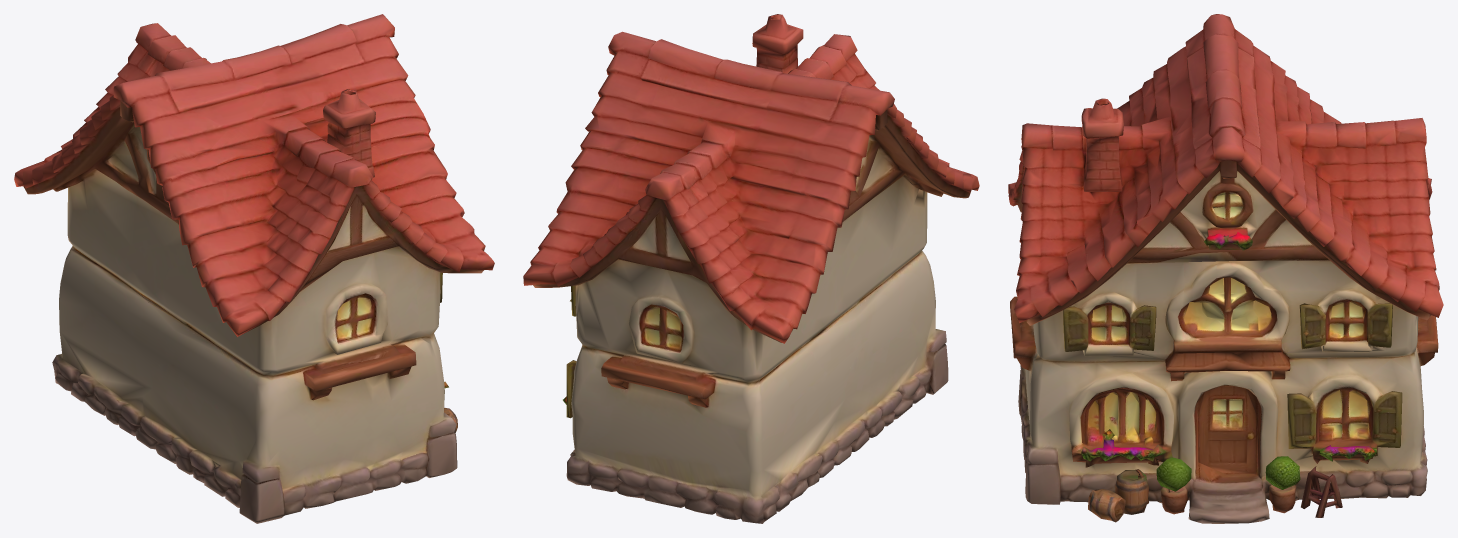
File: cottage.glb
3 views of the same model, side by side, from view 1: azimuth 30°, elevation 25°; view 2: azimuth 150°, elevation 25°; view 3: azimuth 270°, elevation 25° (orthographic).
Parts seen in each view (by area): view 1: tripo_node_b5ebd3bc-d02a-4201-aca3-75aa52ded8dd; view 2: tripo_node_b5ebd3bc-d02a-4201-aca3-75aa52ded8dd; view 3: tripo_node_b5ebd3bc-d02a-4201-aca3-75aa52ded8dd.
Boxes of the visible parts, left/top/right/bottom form: tripo_node_b5ebd3bc-d02a-4201-aca3-75aa52ded8dd: left=14, top=14, right=494, bottom=523; tripo_node_b5ebd3bc-d02a-4201-aca3-75aa52ded8dd: left=523, top=14, right=979, bottom=523; tripo_node_b5ebd3bc-d02a-4201-aca3-75aa52ded8dd: left=1008, top=14, right=1443, bottom=523.
Bounding box in the file's own units: 0.9483 × 1.2 × 1.26.
Materials: 1 (1 with a texture image).
